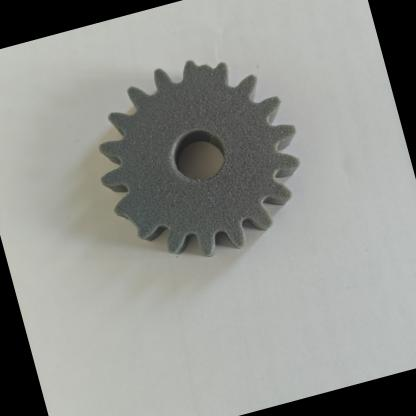defect: (87, 173, 187, 265), (154, 28, 258, 112)
gear: (35, 10, 334, 306)
